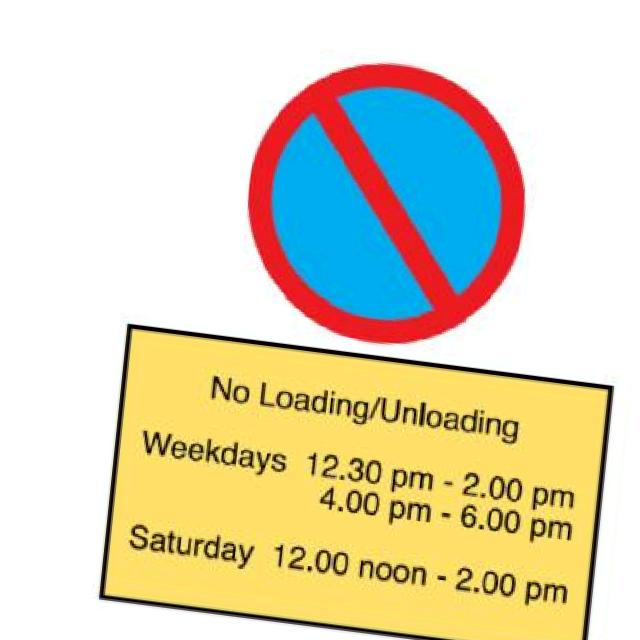forb_stopping: (249, 63, 527, 347)
